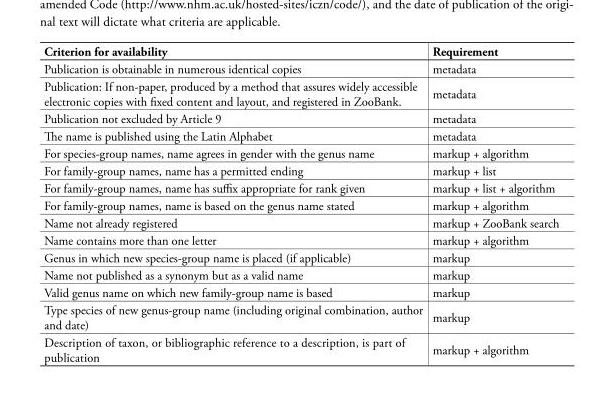table: (43, 43, 558, 365)
table column: (43, 43, 427, 365), (427, 43, 558, 365)
table column header: (43, 43, 558, 59)
table row: (43, 77, 558, 109), (43, 301, 558, 333), (43, 333, 558, 365), (43, 59, 558, 77), (43, 109, 558, 127), (43, 161, 558, 179), (43, 196, 558, 214), (43, 248, 558, 266), (43, 283, 558, 301), (43, 127, 558, 144), (43, 144, 558, 161), (43, 179, 558, 196), (43, 214, 558, 231), (43, 231, 558, 248), (43, 266, 558, 283), (43, 43, 558, 59)
